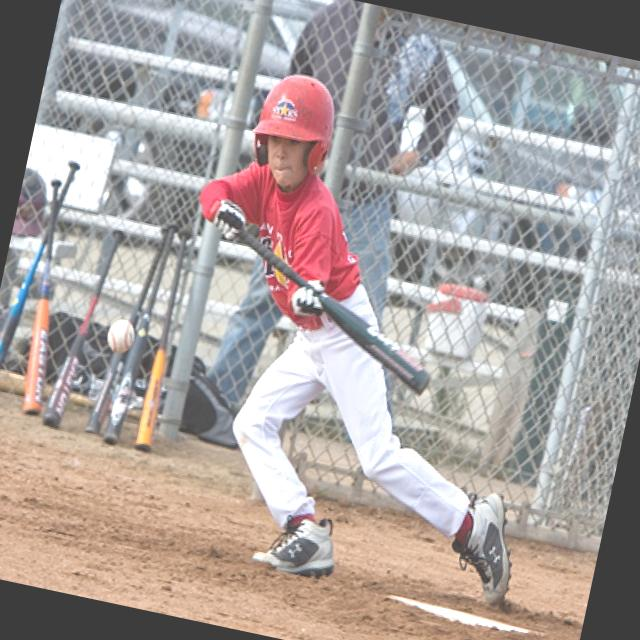Vehicle: (456, 88, 640, 309), (382, 44, 542, 244), (117, 70, 237, 238), (116, 0, 333, 64)
